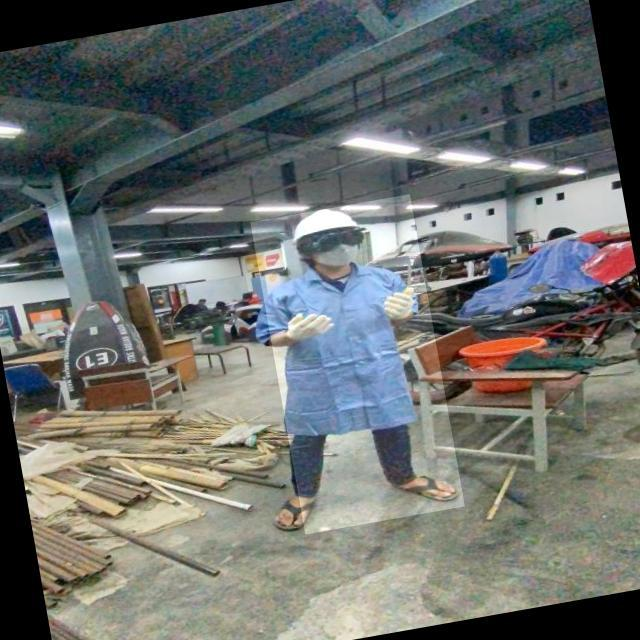Gloves: (280, 299, 343, 348), (376, 280, 428, 330)
Helmet: (285, 199, 364, 244)
Person: (232, 175, 478, 553)
no-boot: (268, 490, 328, 539), (392, 464, 456, 508)
no-vest: (255, 259, 431, 443)
